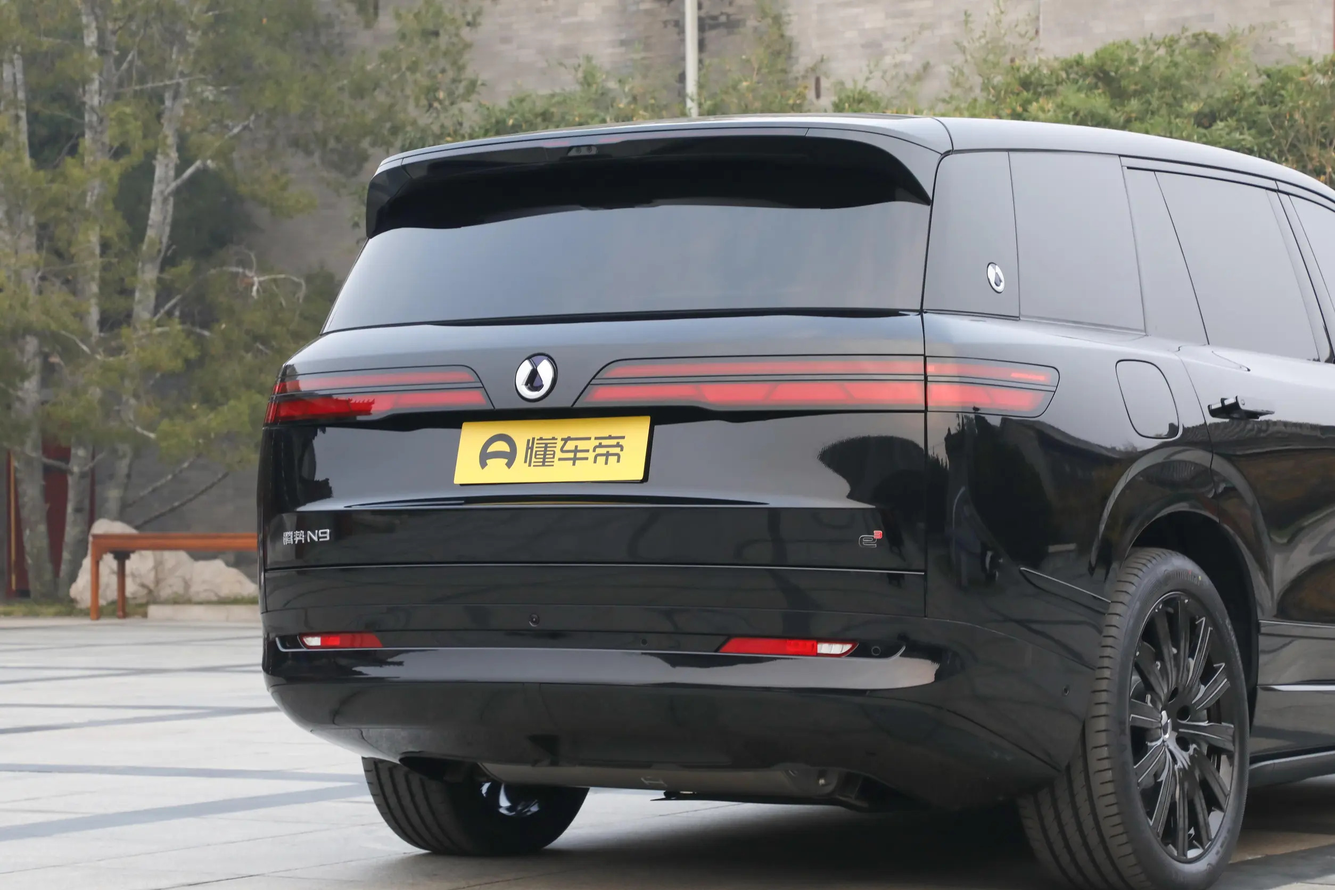DENZA: (516, 359, 552, 398)
